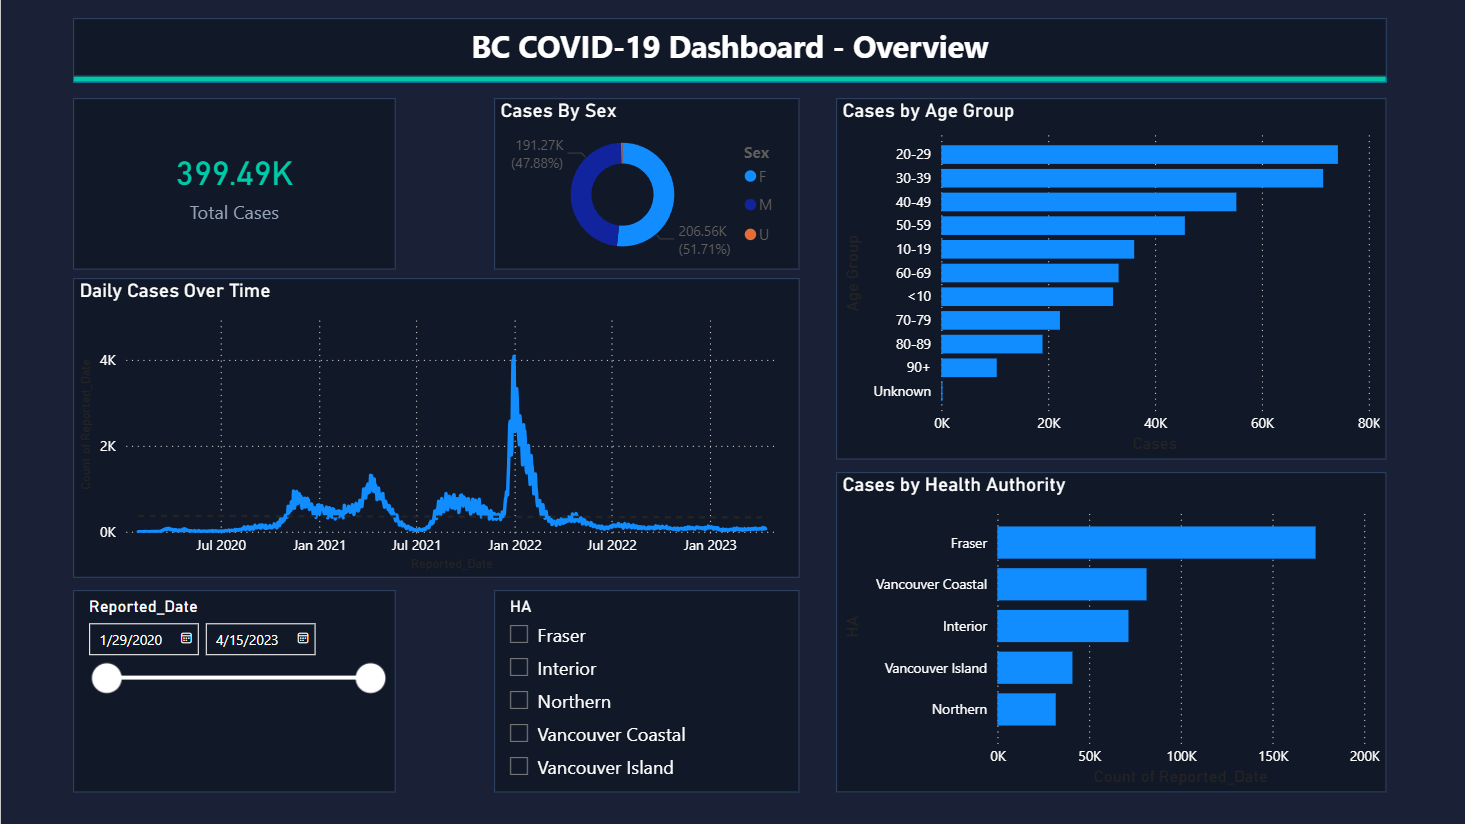

The page's visual inventory and layout, read from the dashboard file:
{"tool":"powerbi","page":{"name":"Page 1","canvas":[1280,720],"ordinal":0},"visuals":[{"type":"clusteredBarChart","title":"Cases by Health Authority","fields":{"Category":["BCCDC_COVID19_Dashboard_Case_Details.HA"],"Y":["CountNonNull(BCCDC_COVID19_Dashboard_Case_Details.Reported_Date)"]},"box":[729.5,412.4,481.5,280.1],"z":0},{"type":"slicer","fields":{"Values":["BCCDC_COVID19_Dashboard_Case_Details.Reported_Date"]},"box":[63.2,515.5,282.1,177],"z":1000},{"type":"slicer","fields":{"Values":["BCCDC_COVID19_Dashboard_Case_Details.HA"]},"box":[430.9,515.5,267.5,177],"z":2000},{"type":"lineChart","title":"Daily Cases Over Time","fields":{"Y":["CountNonNull(BCCDC_COVID19_Dashboard_Case_Details.Reported_Date)"],"Category":["BCCDC_COVID19_Dashboard_Case_Details.Reported_Date"]},"box":[63.2,243.2,635.1,261.6],"z":3000},{"type":"card","fields":{"Values":["CountNonNull(BCCDC_COVID19_Dashboard_Case_Details.Reported_Date)"]},"box":[63.2,85.6,282.1,149.8],"z":4000},{"type":"donutChart","title":"Cases By Sex","fields":{"Category":["BCCDC_COVID19_Dashboard_Case_Details.Sex"],"Y":["CountNonNull(BCCDC_COVID19_Dashboard_Case_Details.Reported_Date)"]},"box":[430.9,85.6,267.5,149.8],"z":5000},{"type":"clusteredBarChart","title":"Cases by Age Group","fields":{"Category":["BCCDC_COVID19_Dashboard_Case_Details.Age_Group"],"Y":["CountNonNull(BCCDC_COVID19_Dashboard_Case_Details.Reported_Date)"]},"box":[729.5,85.6,481.5,316.1],"z":6000},{"type":"shape","box":[63.2,59.3,1147.7,12.6],"z":8000},{"type":"textbox","box":[63.2,15.6,1147.7,50.6],"z":8500}]}

Visuals, with their boxes in screenshot pixels (x1, y1, x2, y2), scaled from the page's 1280x720 canvas onto the 1465x824 screenshot:
"Cases by Health Authority" clusteredBarChart: 835:472:1386:793
slicer - BCCDC_COVID19_Dashboard_Case_Details.Reported_Date: 72:590:395:793
slicer - BCCDC_COVID19_Dashboard_Case_Details.HA: 493:590:799:793
"Daily Cases Over Time" lineChart: 72:278:799:578
card - CountNonNull(BCCDC_COVID19_Dashboard_Case_Details.Reported_Date): 72:98:395:269
"Cases By Sex" donutChart: 493:98:799:269
"Cases by Age Group" clusteredBarChart: 835:98:1386:460
shape: 72:68:1386:82
textbox: 72:18:1386:76
